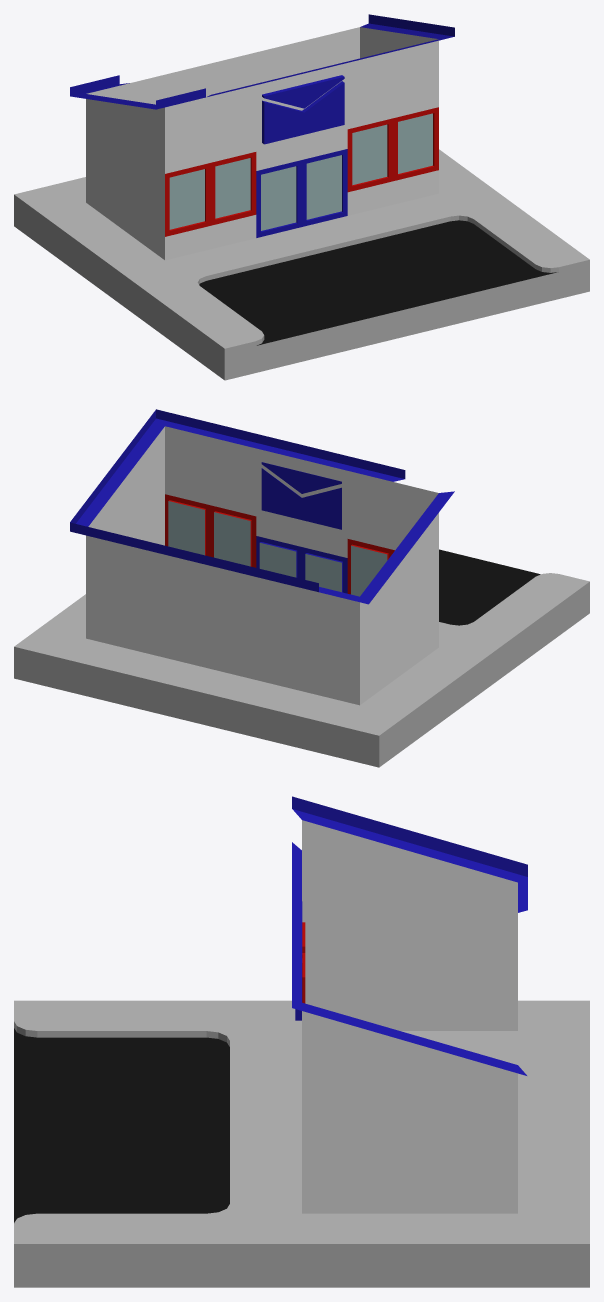
The model's file is CargoPostOfficeModel.fbx.
The picture shows the model from 3 angles, top to bottom: view 1: azimuth 30°, elevation 25°; view 2: azimuth 150°, elevation 25°; view 3: azimuth 270°, elevation 25°; orthographic projection. The views are drawn at different scales.
Parts seen in each view (by area): view 1: PostOffice; view 2: PostOffice; view 3: PostOffice.
Boxes of the visible parts, x1,y1,x2,y2 form: PostOffice: [14, 14, 589, 380]; PostOffice: [14, 409, 589, 767]; PostOffice: [14, 796, 589, 1287].
Size of the model in its own units: 1200 by 620 by 1200.
